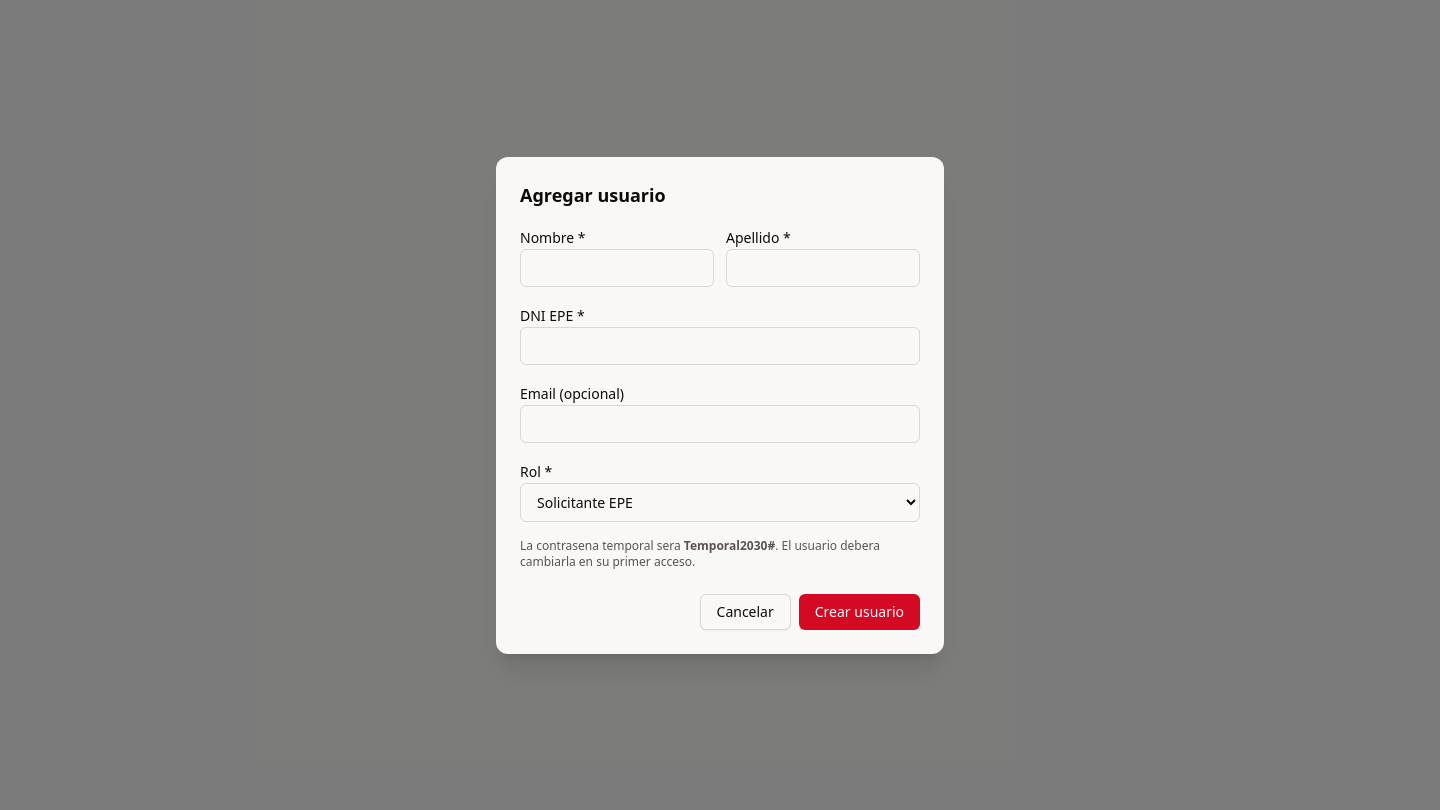
Test: CreateUserModal role options › muestra errores inline y no crea usuario con datos inválidos
Type "123" into the field labelled "DNI EPE *". click: x=720, y=346
box: [520,326,920,364]
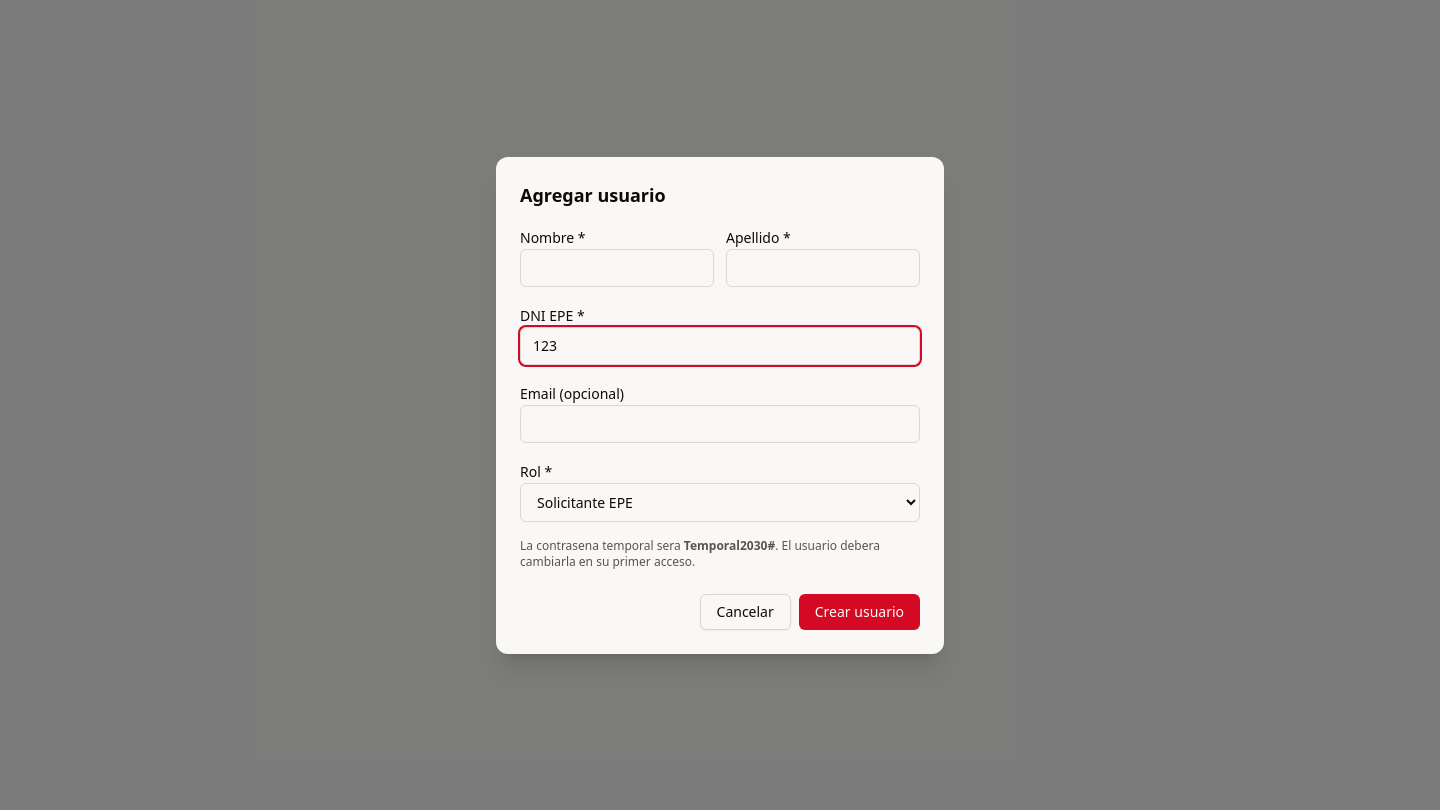
Type "correo-invalido" into the field labelled "Email (opcional)". click: x=720, y=424
box: [520,404,920,442]
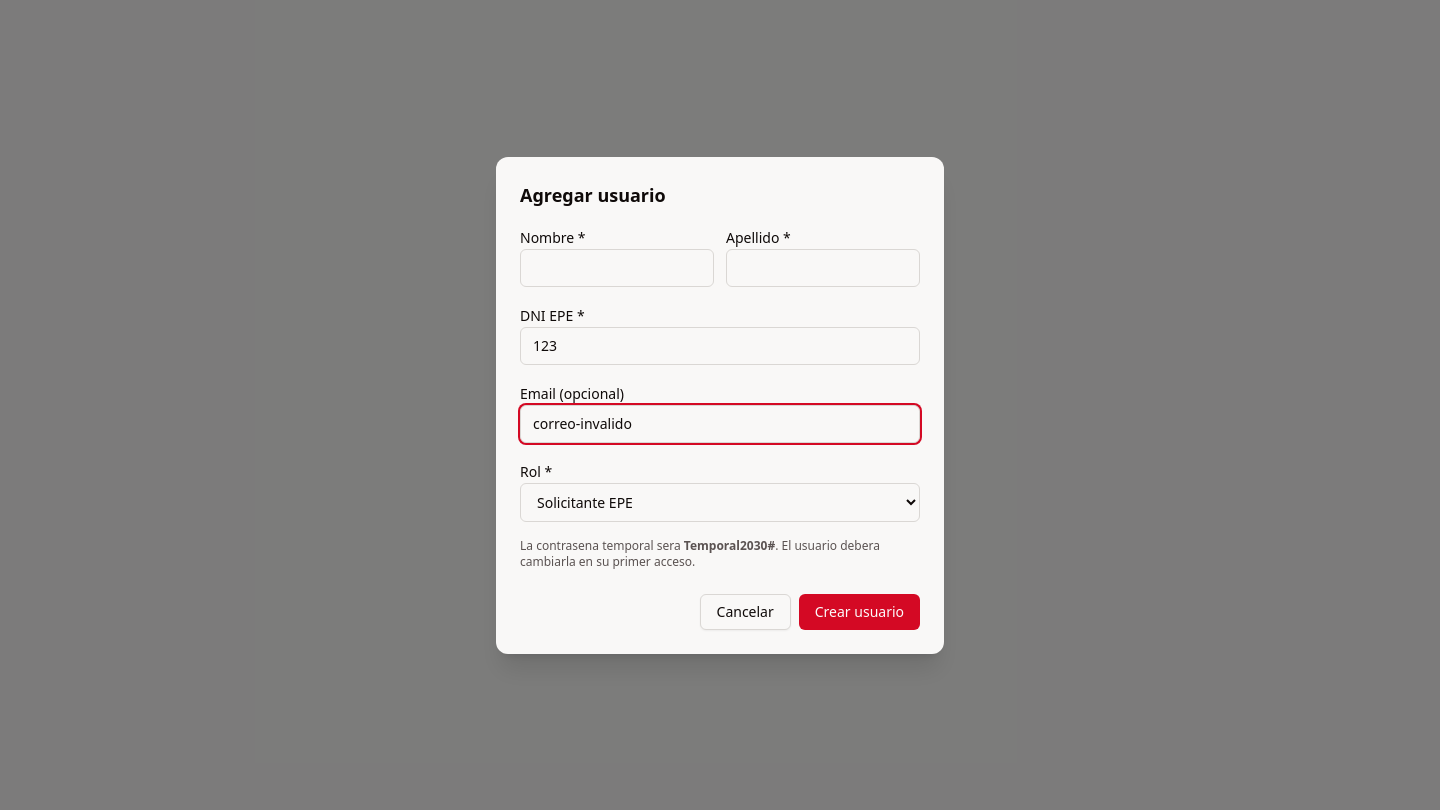
Click the button "Crear usuario". click: x=859, y=612
box: [799,594,920,630]
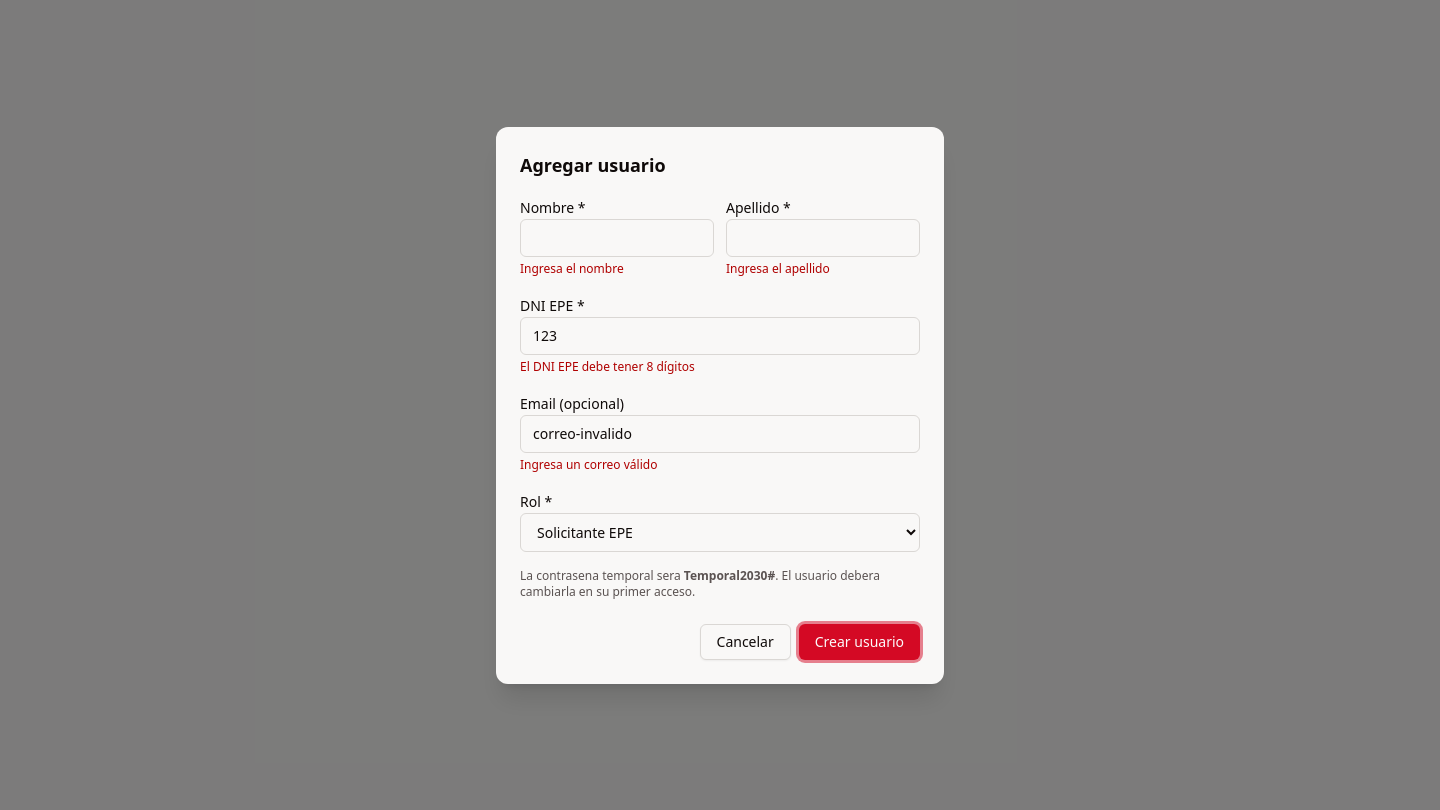
Check: the text "Ingresa el nombre" is shown, box [520,260,624,276]
Check: the text "Ingresa el apellido" is shown, box [726,260,830,276]
Check: the text "El DNI EPE debe tener 8 dígitos" is shown, box [520,358,695,374]
